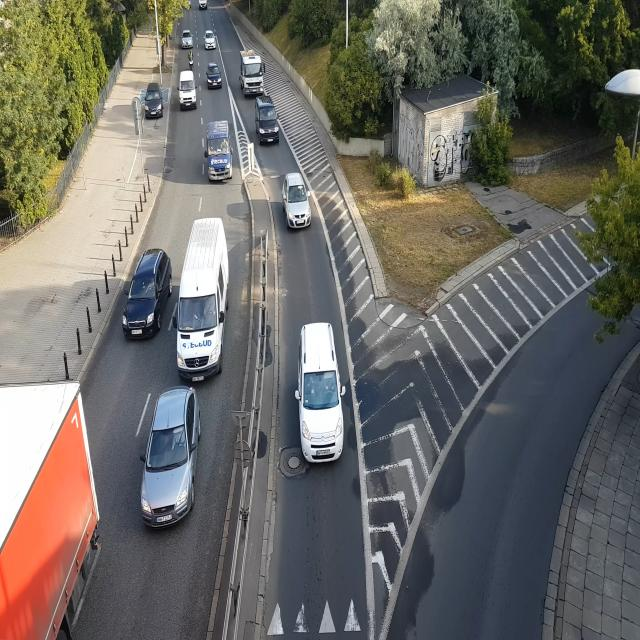car: (175, 211, 231, 390), (293, 314, 352, 468), (143, 389, 203, 528), (122, 237, 171, 352), (279, 175, 318, 229), (203, 118, 235, 182), (252, 97, 280, 141), (145, 80, 167, 122), (179, 71, 200, 109), (208, 57, 224, 97), (202, 28, 220, 54), (197, 0, 214, 16), (179, 28, 194, 46)
motorcycle: (187, 49, 196, 68)
truck: (0, 377, 104, 640), (239, 44, 268, 94)
